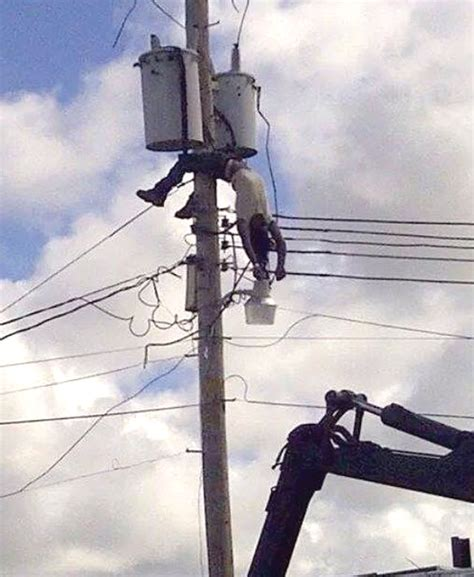pole: (111, 1, 333, 576)
